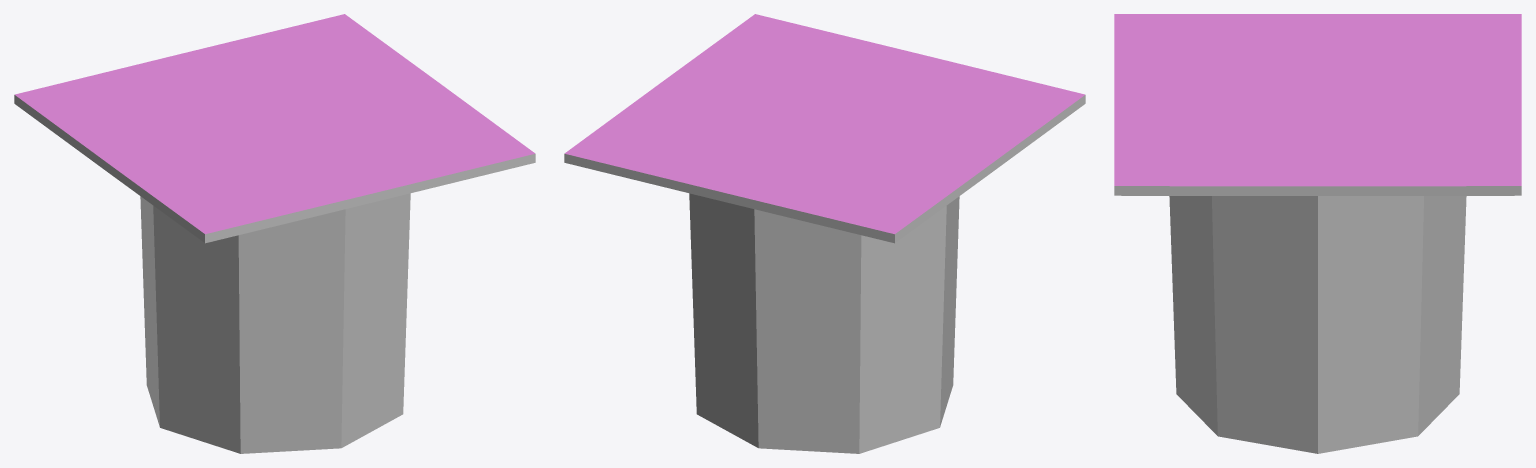
Rendered from yaourt.fbx.
3 renders of one model, left to right at view 1: azimuth 30°, elevation 25°; view 2: azimuth 150°, elevation 25°; view 3: azimuth 270°, elevation 25°, orthographic. The views are drawn at different scales.
Visible parts, largest first — view 1: yaourt; view 2: yaourt; view 3: yaourt.
Part boxes in pixels (left/top/right/bottom): yaourt: left=14, top=14, right=535, bottom=453; yaourt: left=564, top=14, right=1085, bottom=453; yaourt: left=1114, top=14, right=1521, bottom=453.
Bounding box in the file's own units: 24.26 × 24.26 × 19.31.
